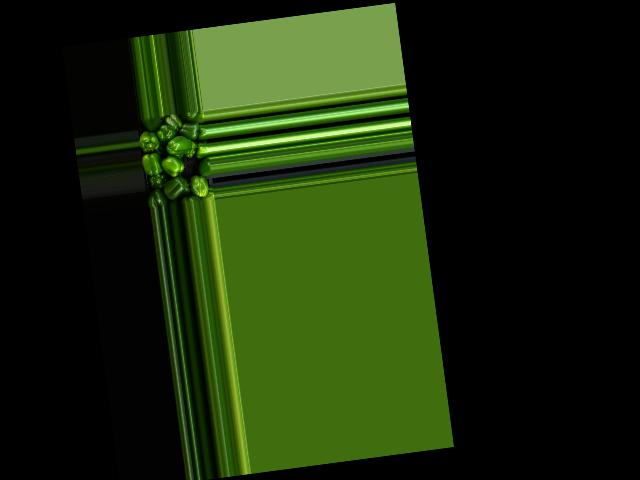bell_pepper: (145, 114, 166, 131)
